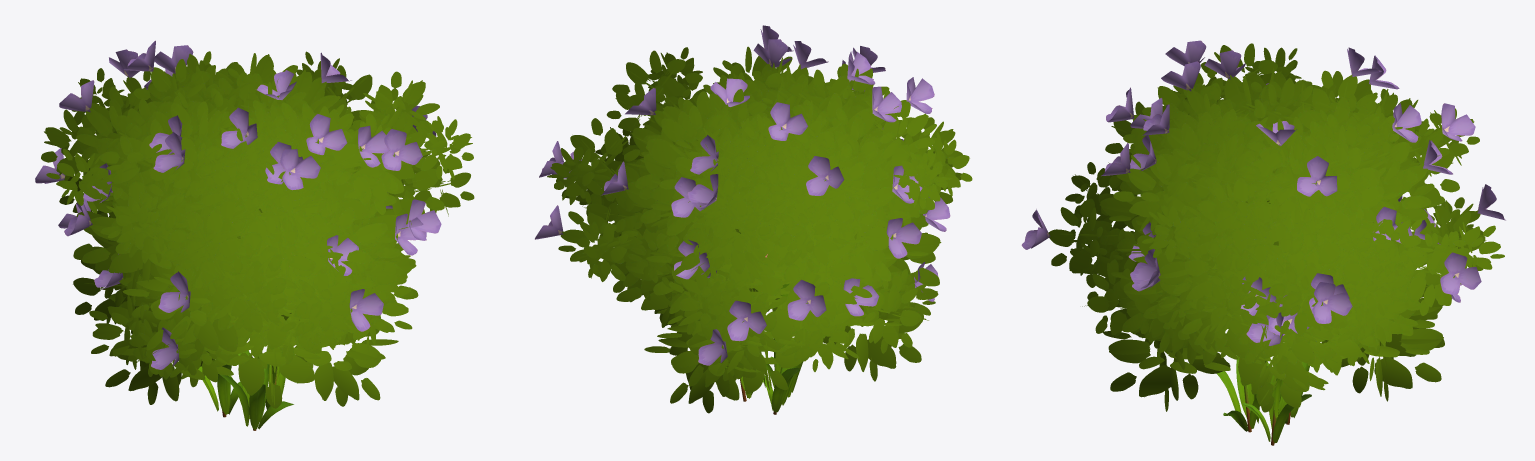
File: meadow-flowers.glb
The picture shows the model from 3 angles, left to right: view 1: azimuth 30°, elevation 25°; view 2: azimuth 150°, elevation 25°; view 3: azimuth 270°, elevation 25°; orthographic projection. The views are drawn at different scales.
Parts seen in each view (by area): view 1: flower-bush-Bush_Common_Flowers, flowers-Flower_3_Group; view 2: flower-bush-Bush_Common_Flowers, flowers-Flower_3_Group; view 3: flower-bush-Bush_Common_Flowers, flowers-Flower_3_Group.
Part boxes in pixels (x1,y1,x2,y2): flower-bush-Bush_Common_Flowers: (35, 40, 474, 408); flowers-Flower_3_Group: (198, 304, 293, 430); flower-bush-Bush_Common_Flowers: (535, 25, 972, 413); flowers-Flower_3_Group: (726, 254, 803, 414); flower-bush-Bush_Common_Flowers: (1021, 40, 1505, 412); flowers-Flower_3_Group: (1216, 356, 1311, 445).
Size of the model in its own units: 0.9684 by 0.8 by 0.9939.
3 materials, 3 textured.
